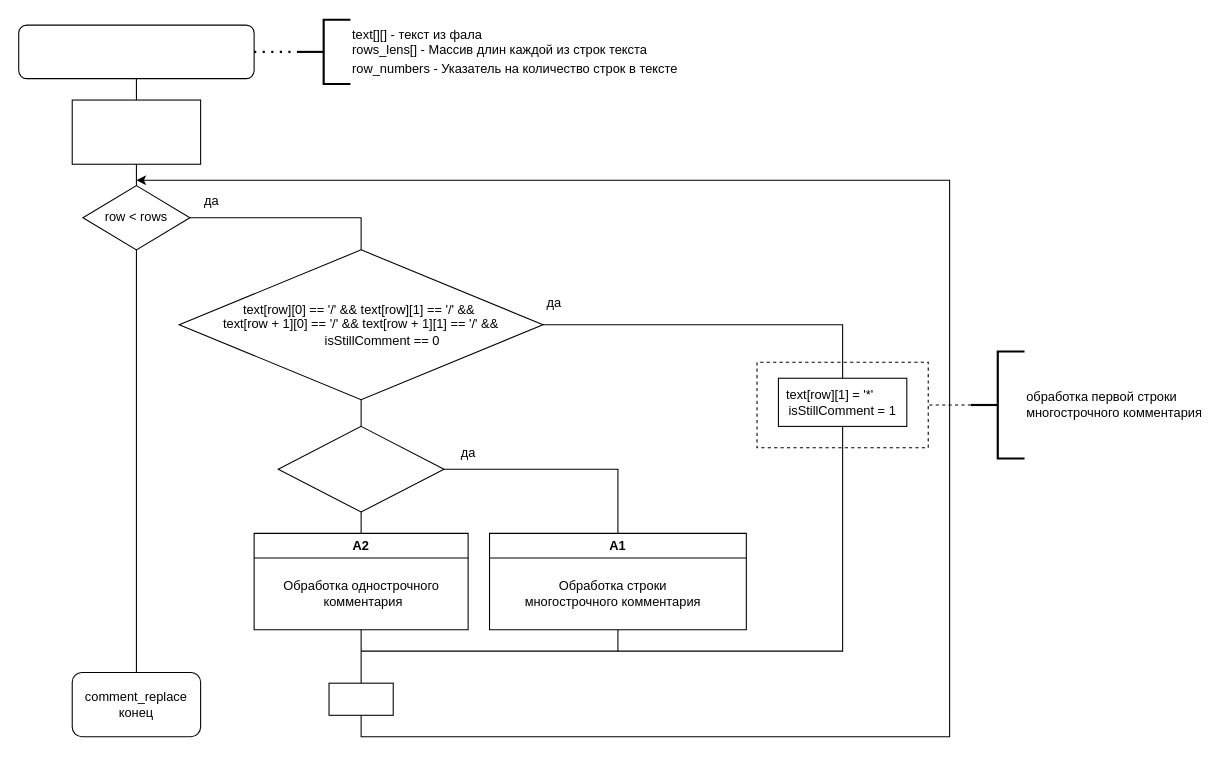
Image size: 1221x764. Some labels were removed from this diagram. The centre of each missing label's shape, as x and y in pixels:
"comment_replace(char text[][], int rows, int rows_lens[]) начало" belongs at (136,51).
"isStillComment == 1" belongs at (360,468).
"row = 0 isStillComment = 0" belongs at (136,131).
"row++" belongs at (360,698).
